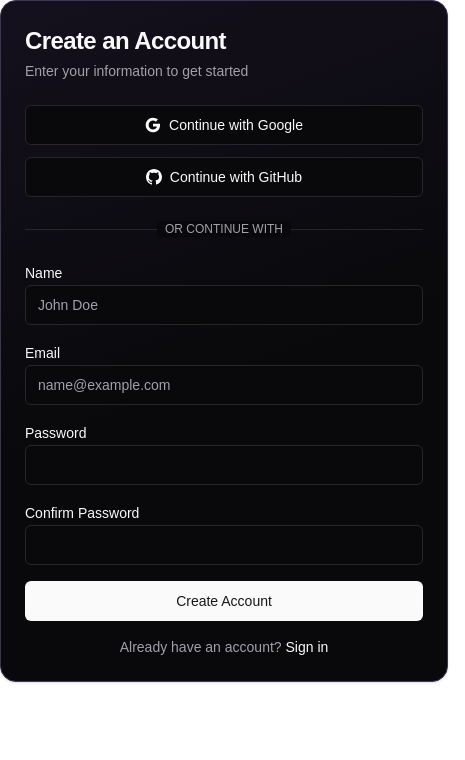
Test: SignupForm › shows error on API failure
In the field labelled "Name": (224, 305) [25,285,423,325], type "Test User"
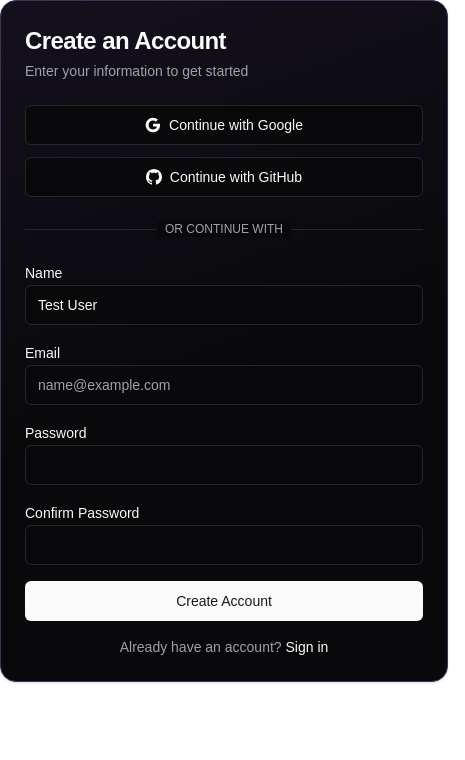
In the field labelled "Email": (224, 385) [25,365,423,405], type "existing@test.com"
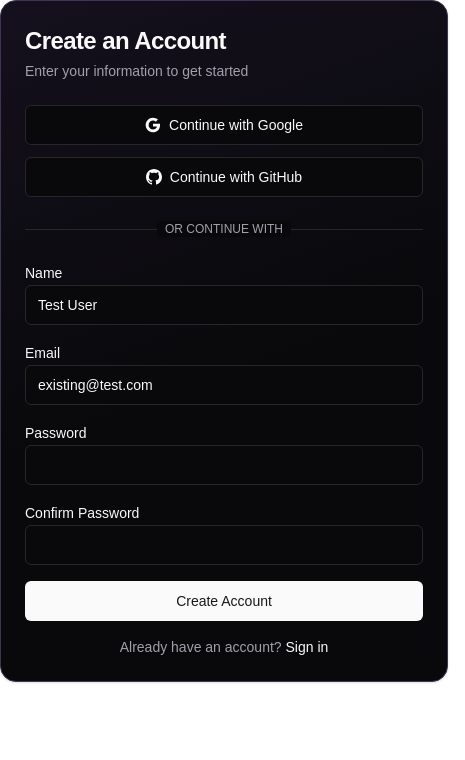
In the password field labelled "Password": (224, 465) [25,445,423,485], type "password123"
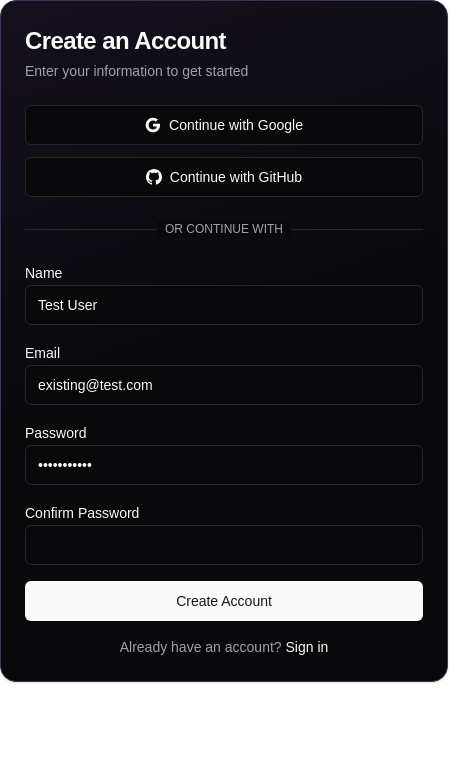
In the password field labelled "Confirm Password": (224, 545) [25,525,423,565], type "password123"
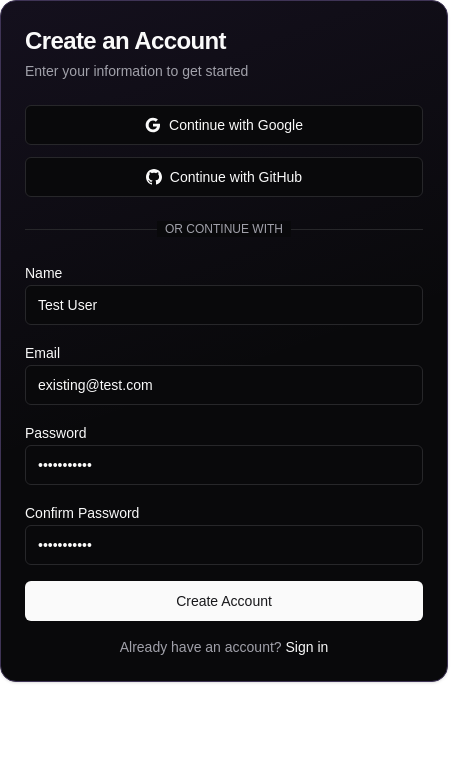
Click the button "Create Account": (224, 601) [25,581,423,621]
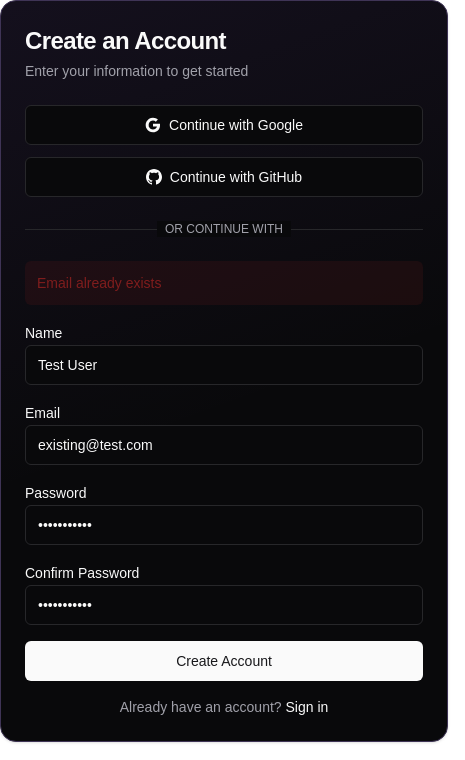
Result: the text "Email already exists" is shown at [25,261,423,305]
